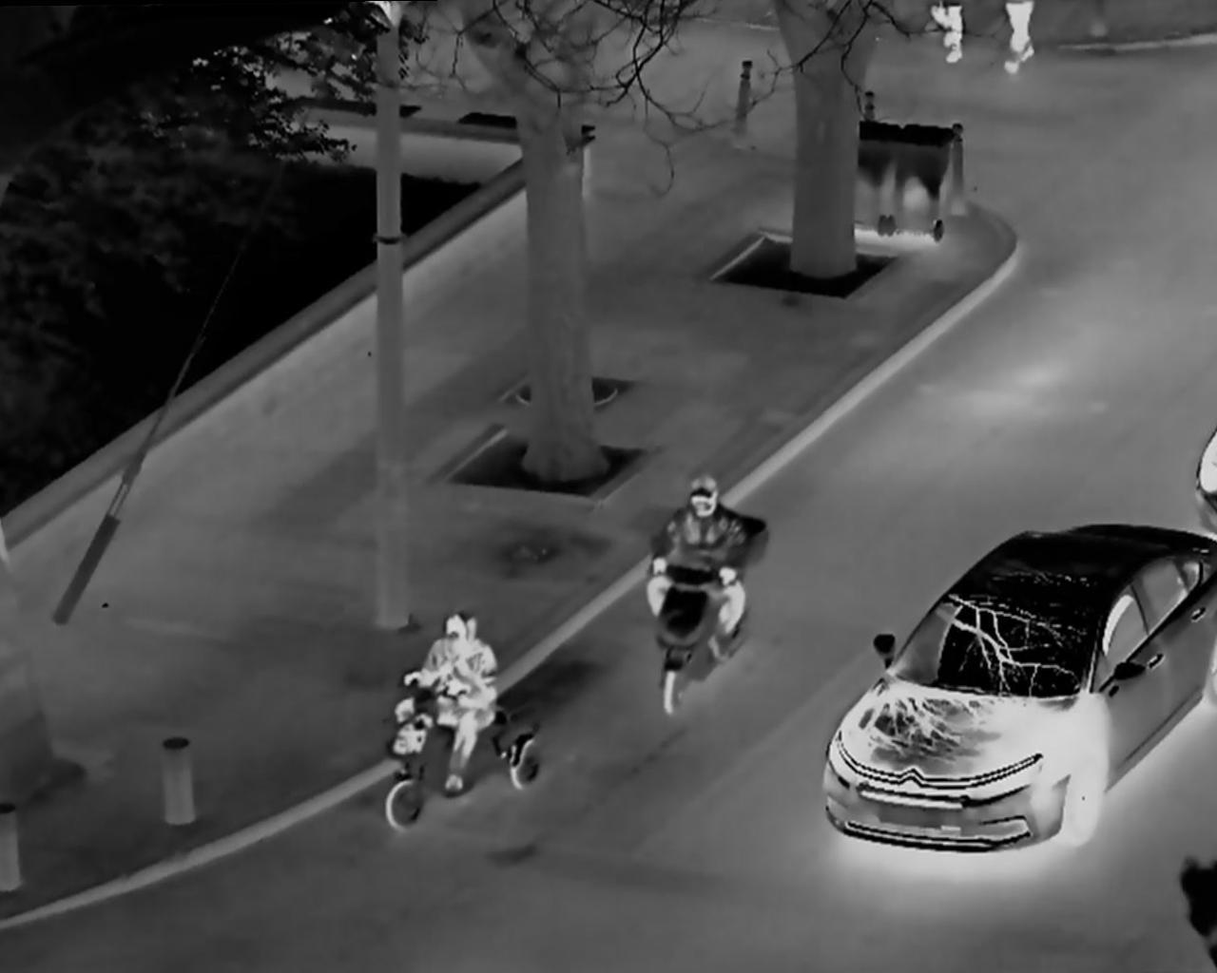person: (632, 462, 775, 715), (402, 594, 505, 823)
